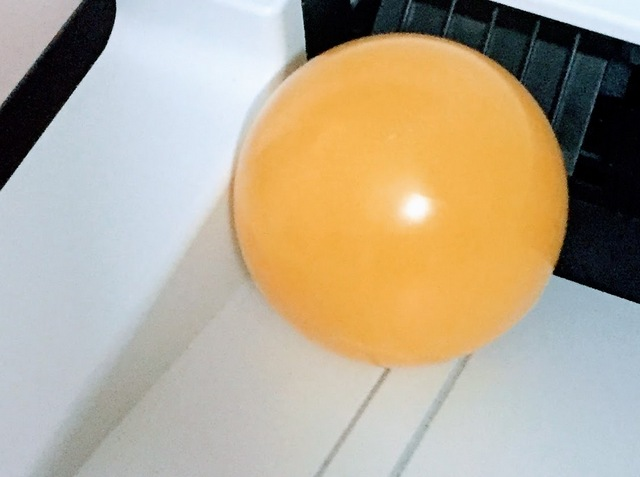ball: (231, 31, 569, 371)
